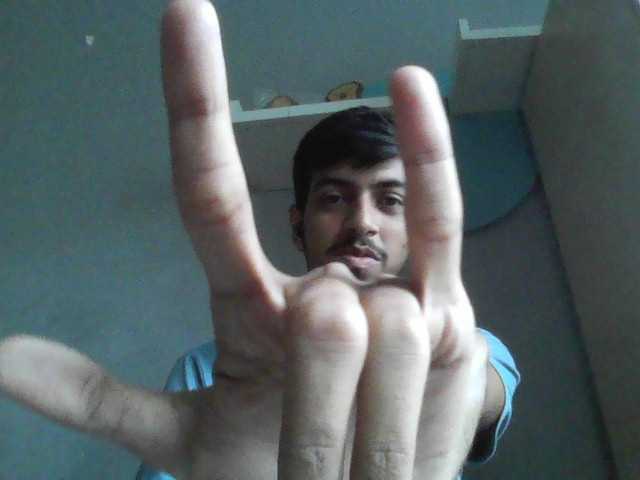I Love You: (4, 2, 497, 480)
